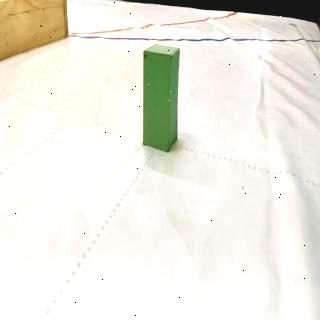greenbox: (143, 44, 180, 152)
